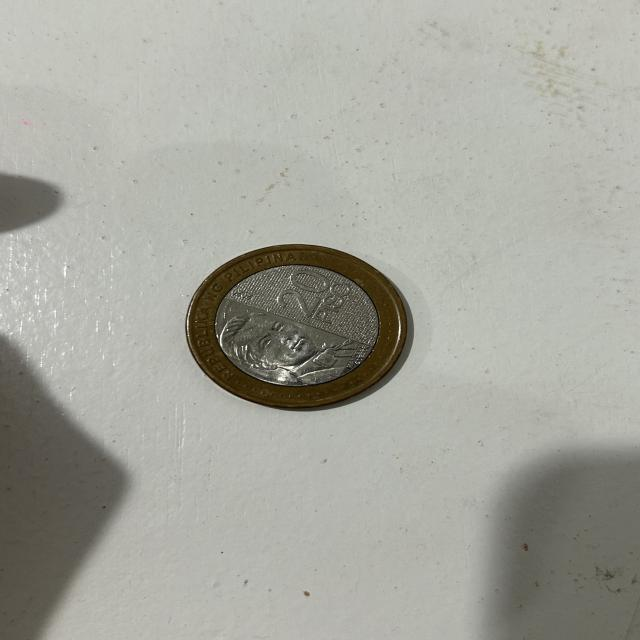20_New_Front: (272, 268, 374, 338)
